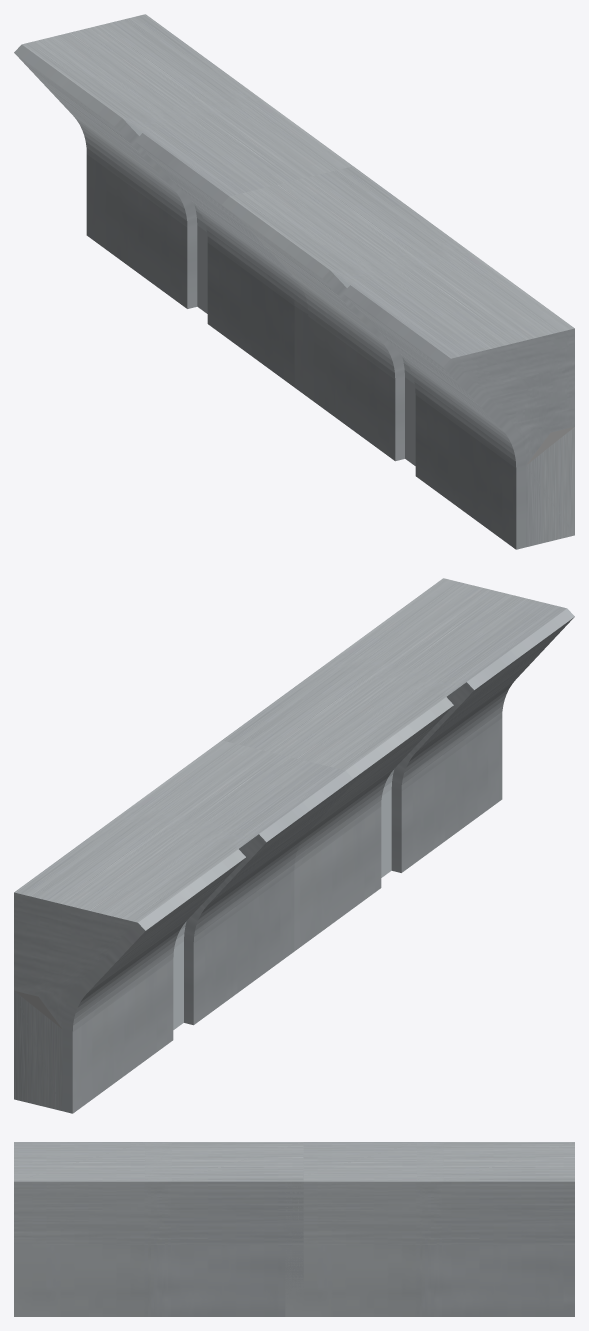
3 renders of one model, top to bottom at view 1: azimuth 30°, elevation 25°; view 2: azimuth 150°, elevation 25°; view 3: azimuth 270°, elevation 25°, orthographic. The views are drawn at different scales.
Visible parts, largest first — view 1: Wall3 (×2); view 2: Wall3 (×2); view 3: Wall3 (×2).
Part boxes in pixels (x1,y1,x2,y2): Wall3 (×2): (14,14,574,549); Wall3 (×2): (14,578,574,1113); Wall3 (×2): (14,1142,574,1316).
Bounding box in the file's own units: 2.69 × 4.04 × 15.18.
